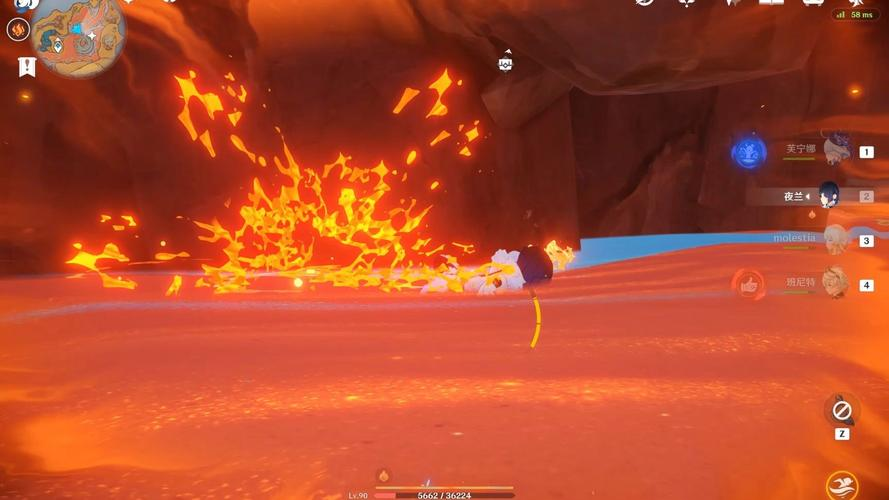夜兰: (416, 245, 559, 297), (810, 181, 849, 216)
